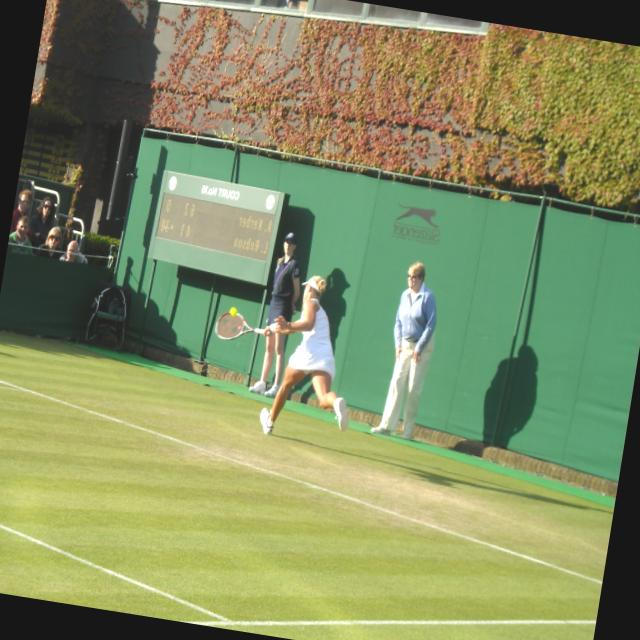Tennis Ball: (228, 306, 236, 318)
